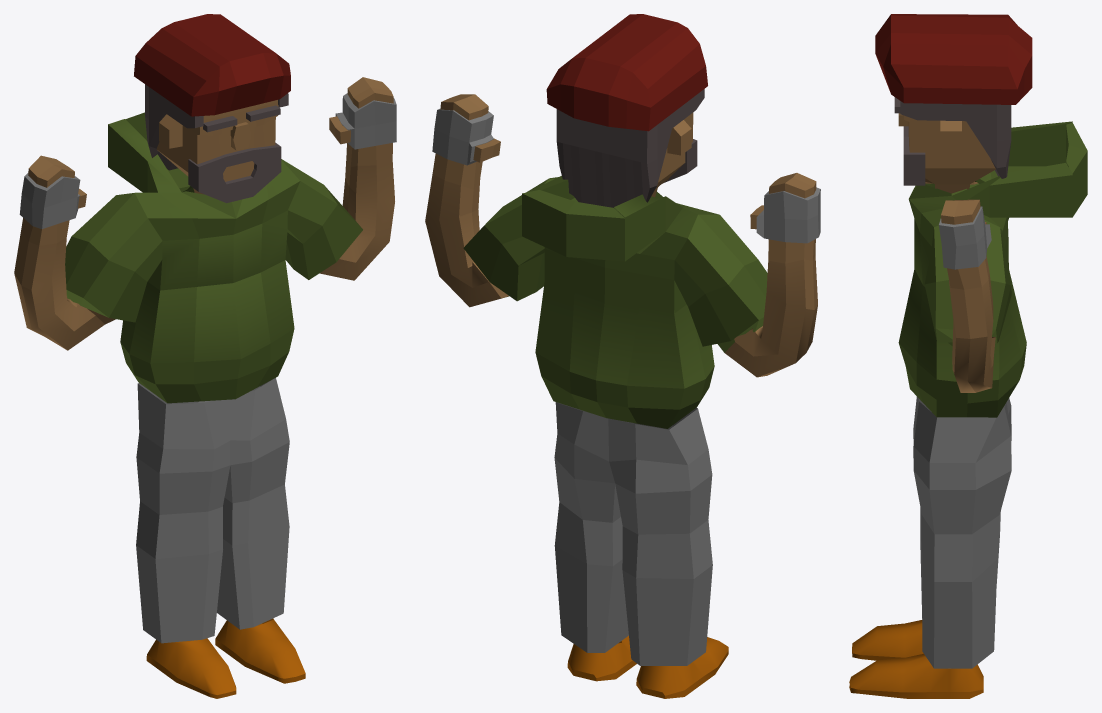
The model's file is RAMIRO1.fbx.
3 views of the same model, side by side, from view 1: azimuth 30°, elevation 25°; view 2: azimuth 150°, elevation 25°; view 3: azimuth 270°, elevation 25° (orthographic). The views are drawn at different scales.
Visible parts, largest first — view 1: VagabundoCapucha, VagabundoPantalon, VabundoBrazo, VagabundoGorro, VagabundoPies, VagabundoCara, VagabundoBarba, VagabundoGuante2, VagabundoGuante1, VagabundoPelo; view 2: VagabundoCapucha, VagabundoPantalon, VabundoBrazo, VagabundoGorro, VagabundoPelo, VagabundoPies, VagabundoGuante2, VagabundoGuante1, VagabundoCara; view 3: VagabundoCapucha, VagabundoPantalon, VagabundoGorro, VagabundoPies, VabundoBrazo, VagabundoCara, VagabundoPelo, VagabundoGuante1, VagabundoBarba.
Part boxes in pixels (bbox=[...]): VagabundoCapucha: bbox=[65, 112, 362, 403]; VagabundoPantalon: bbox=[136, 378, 289, 643]; VabundoBrazo: bbox=[14, 77, 394, 350]; VagabundoGorro: bbox=[134, 14, 290, 116]; VagabundoPies: bbox=[146, 618, 305, 698]; VagabundoCara: bbox=[156, 100, 278, 194]; VagabundoBarba: bbox=[188, 142, 281, 203]; VagabundoGuante2: bbox=[19, 173, 80, 228]; VagabundoGuante1: bbox=[335, 93, 396, 149]; VagabundoPelo: bbox=[145, 84, 288, 170]; VagabundoCapucha: bbox=[463, 176, 767, 428]; VagabundoPantalon: bbox=[554, 402, 712, 665]; VabundoBrazo: bbox=[425, 94, 817, 377]; VagabundoGorro: bbox=[546, 14, 707, 131]; VagabundoPelo: bbox=[556, 89, 704, 207]; VagabundoPies: bbox=[567, 635, 728, 698]; VagabundoGuante2: bbox=[756, 187, 820, 243]; VagabundoGuante1: bbox=[432, 108, 493, 165]; VagabundoCara: bbox=[651, 112, 693, 197]; VagabundoCapucha: bbox=[898, 121, 1087, 417]; VagabundoPantalon: bbox=[913, 396, 1011, 668]; VagabundoGorro: bbox=[875, 14, 1032, 104]; VagabundoPies: bbox=[849, 620, 983, 698]; VabundoBrazo: bbox=[941, 181, 995, 392]; VagabundoCara: bbox=[898, 113, 995, 193]; VagabundoPelo: bbox=[900, 101, 1011, 178]; VagabundoGuante1: bbox=[938, 206, 991, 269]; VagabundoBarba: bbox=[903, 126, 925, 185].
Size of the model in its own units: 351 by 558 by 186.
